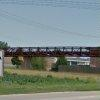Bridge: (4, 38, 93, 71)
